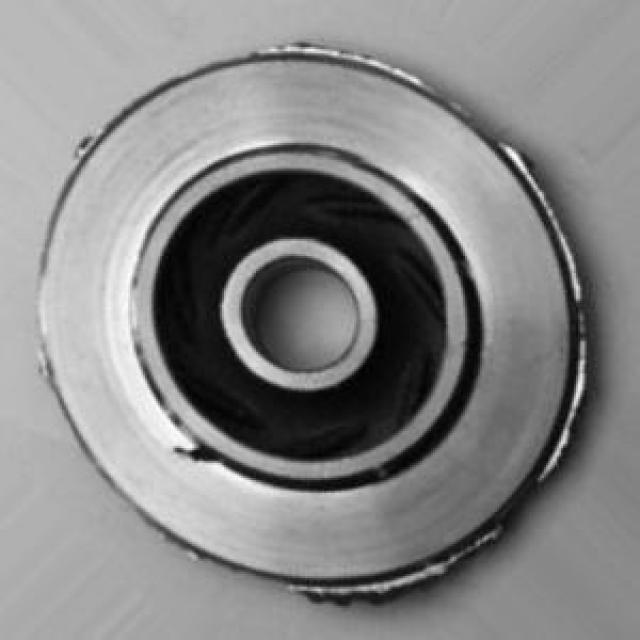Defect: (321, 566, 468, 612), (156, 431, 237, 480), (506, 136, 548, 201)
